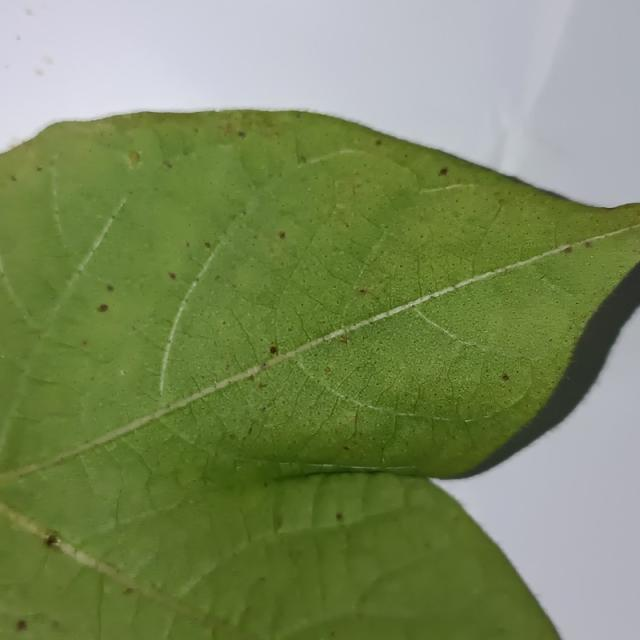Bacterial_Blight: (4, 6, 55, 77), (214, 111, 284, 141), (44, 534, 60, 548), (128, 150, 141, 166), (16, 618, 28, 631), (353, 410, 359, 432), (267, 343, 277, 355), (339, 335, 349, 345), (97, 303, 108, 312), (163, 160, 173, 169), (51, 620, 60, 630), (24, 7, 34, 16), (494, 266, 505, 274), (247, 424, 254, 436), (501, 372, 510, 381), (123, 588, 133, 596), (439, 168, 448, 176), (563, 246, 573, 253), (106, 284, 114, 292), (336, 512, 343, 521), (169, 272, 176, 280), (248, 374, 255, 382), (279, 231, 286, 239), (584, 241, 592, 248), (237, 131, 245, 138), (259, 382, 267, 389), (228, 433, 236, 440), (204, 242, 211, 249), (375, 139, 382, 146), (324, 366, 331, 373), (300, 156, 307, 163), (359, 289, 367, 295), (261, 362, 267, 369), (10, 175, 17, 181), (617, 264, 624, 270), (82, 340, 88, 346), (343, 446, 350, 451), (36, 166, 42, 171), (16, 35, 21, 41), (222, 320, 226, 325), (548, 338, 553, 342), (636, 248, 640, 253)
Cotton: (0, 110, 639, 639)
